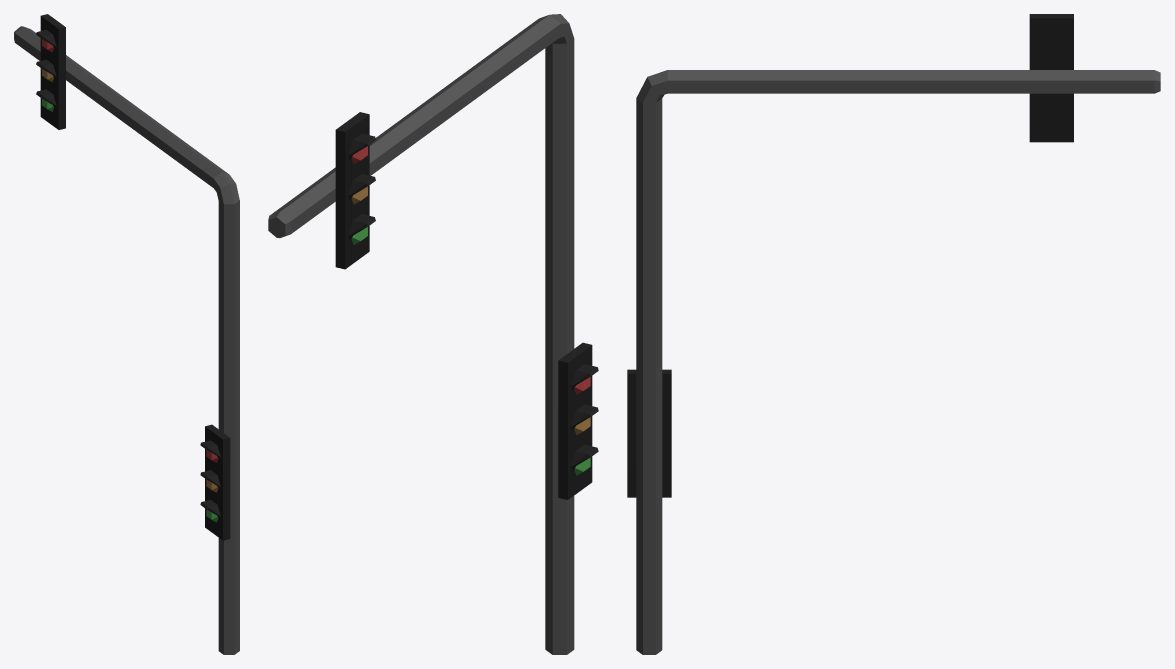
Rendered from Traffic_light_01_SkF.fbx.
3 views of the same model, side by side, from view 1: azimuth 30°, elevation 25°; view 2: azimuth 150°, elevation 25°; view 3: azimuth 270°, elevation 25° (orthographic). The views are drawn at different scales.
Visible parts, largest first — view 1: Traffic_light_01; view 2: Traffic_light_01; view 3: Traffic_light_01.
Boxes of the visible parts, box(x1,y1,x2,y2) form: Traffic_light_01: box(14, 14, 239, 654); Traffic_light_01: box(268, 14, 598, 654); Traffic_light_01: box(627, 14, 1160, 654).
Size of the model in its own units: 23.98 by 344 by 265.
Materials: 1 (1 with a texture image).
